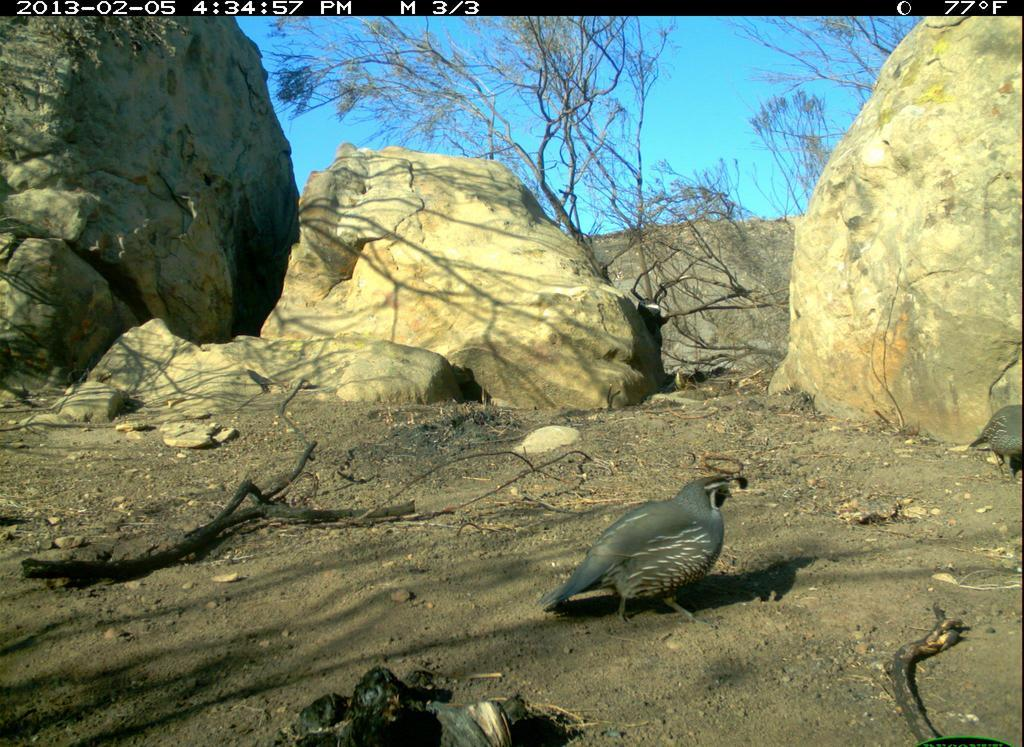bird: (529, 468, 757, 651)
